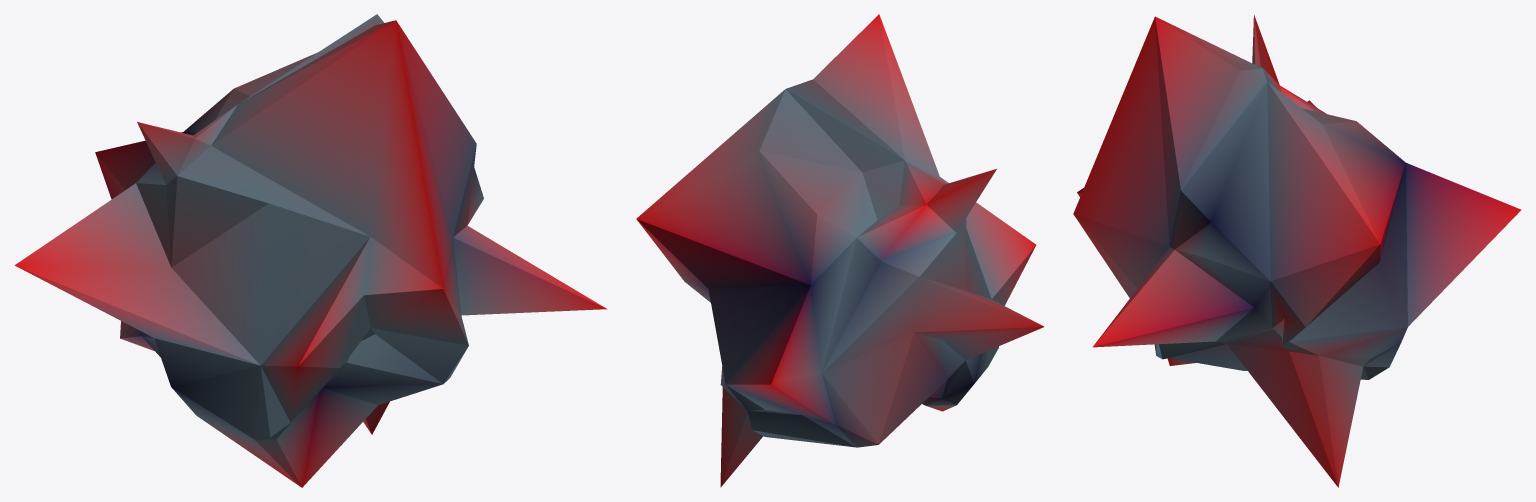
File: Obj_ObstacleAsteroid.FBX
3 renders of one model, left to right at view 1: azimuth 30°, elevation 25°; view 2: azimuth 150°, elevation 25°; view 3: azimuth 270°, elevation 25°, orthographic. The views are drawn at different scales.
Visible parts, largest first — view 1: Obj_ObstacleAsteroid; view 2: Obj_ObstacleAsteroid; view 3: Obj_ObstacleAsteroid.
Part boxes in pixels (box(x1,y1,x2,y2)): Obj_ObstacleAsteroid: box(14, 14, 607, 487); Obj_ObstacleAsteroid: box(636, 14, 1044, 487); Obj_ObstacleAsteroid: box(1073, 15, 1521, 487).
Bounding box in the file's own units: 119 × 117 × 125.
